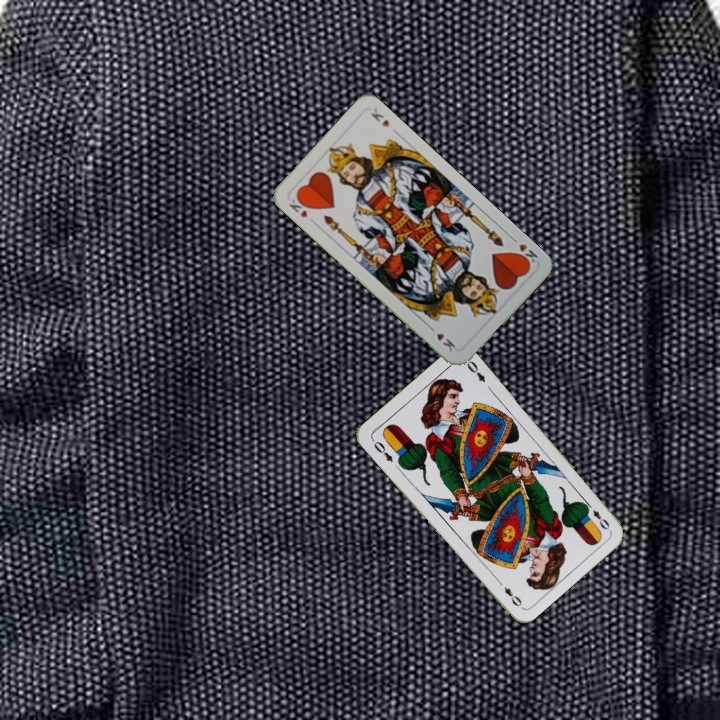EO: (581, 498, 612, 532), (368, 435, 396, 465)
HK: (507, 233, 541, 269), (285, 193, 312, 220)
